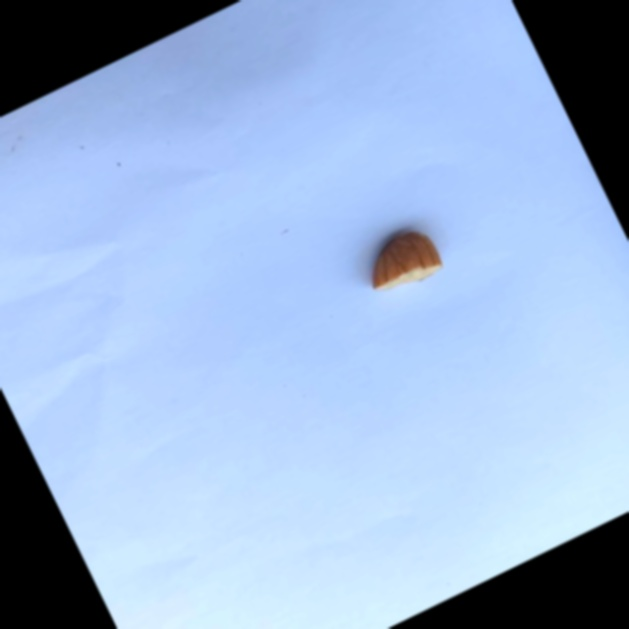grade4: (347, 214, 454, 308)
